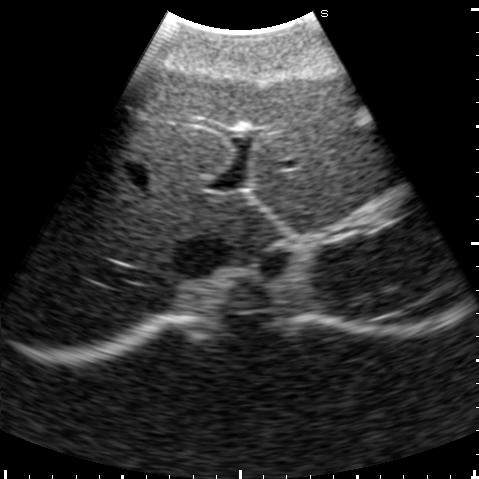IVC: (171, 233, 231, 276)
S1: (219, 198, 279, 255)
S2: (252, 165, 405, 231)
S3: (234, 71, 397, 198)
Tumor: (353, 107, 371, 125)
